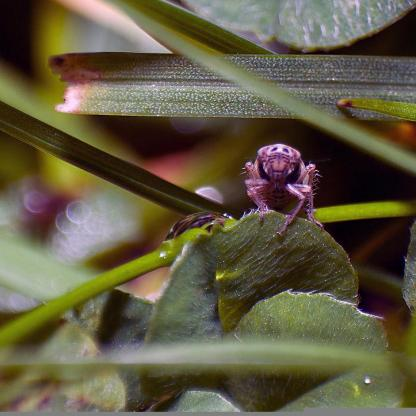Green-Leafhopper: (238, 140, 321, 248)
